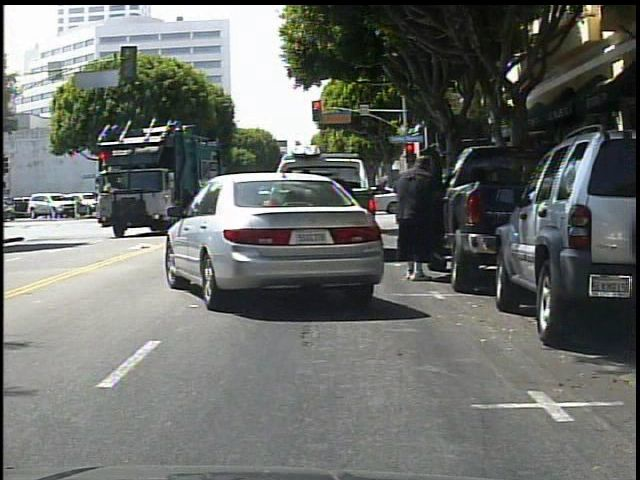person: (397, 152, 440, 289)
